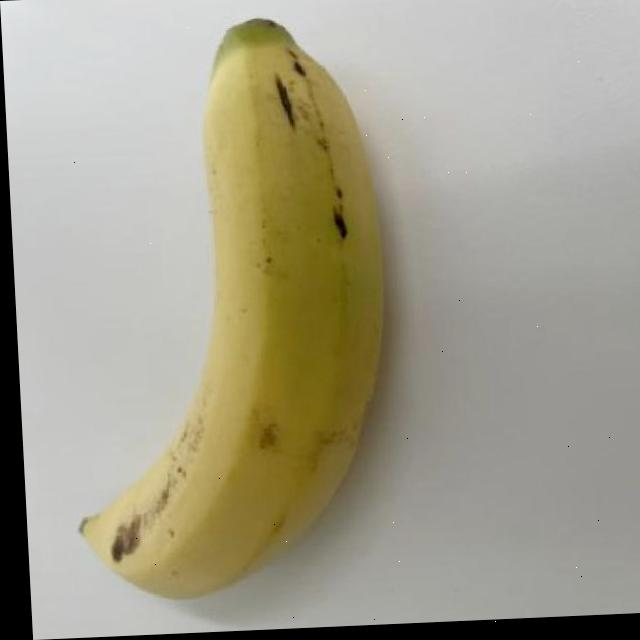banana: (41, 3, 412, 609)
